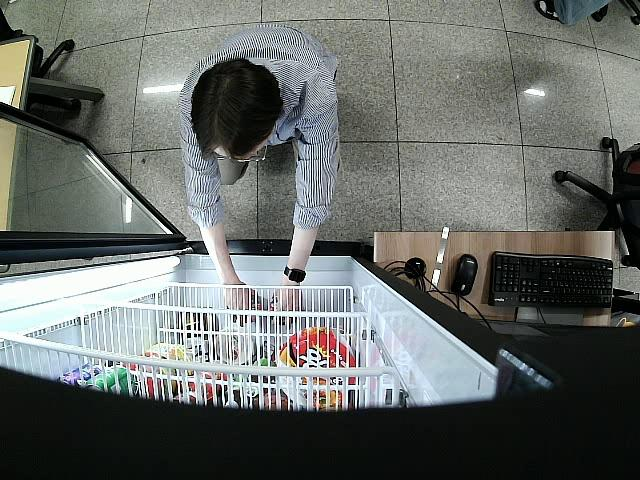00_hand: (226, 279, 258, 325), (269, 288, 302, 324)
